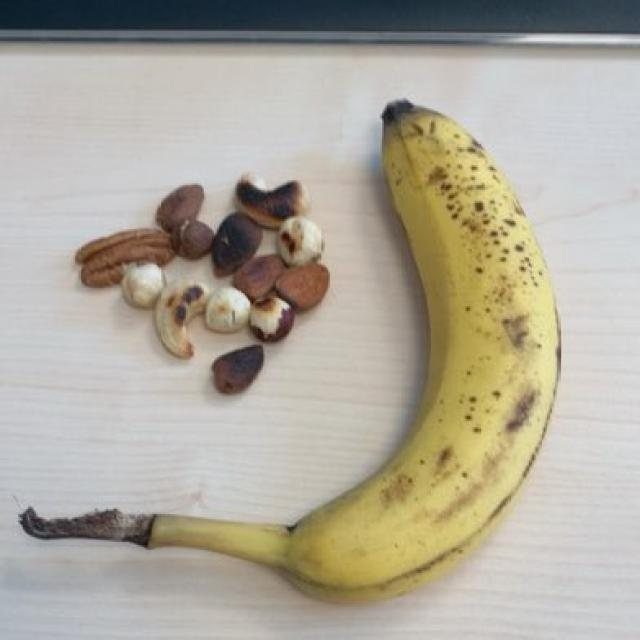banana: (58, 109, 556, 588)
mixed-nuts: (73, 174, 324, 383)
